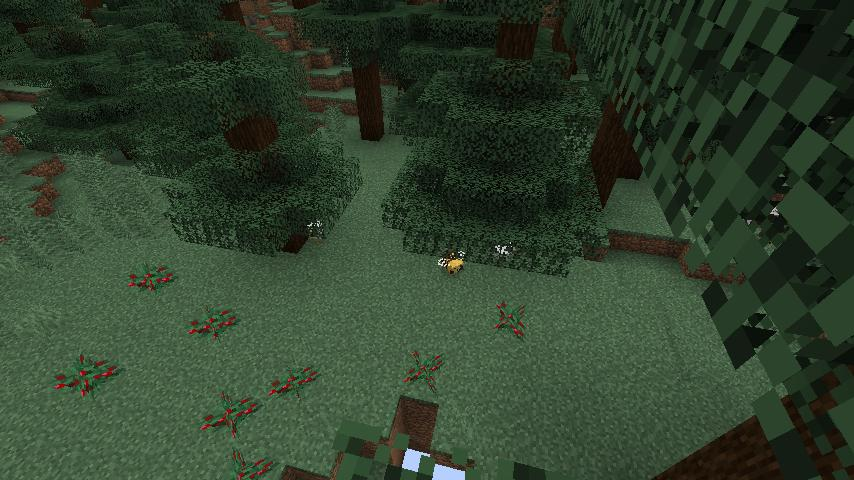bee: (438, 246, 469, 275)
